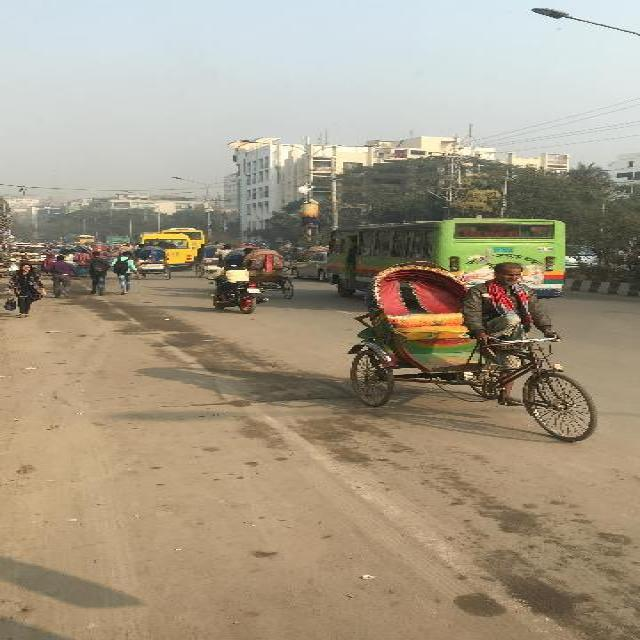bike: (210, 261, 268, 314)
vehicle: (347, 261, 601, 445), (327, 220, 571, 299), (242, 250, 293, 301), (141, 235, 195, 270), (133, 246, 171, 280), (290, 253, 327, 282), (161, 228, 204, 250), (565, 243, 597, 272), (200, 245, 223, 277), (223, 248, 245, 261), (282, 249, 303, 261), (101, 235, 129, 243), (59, 245, 78, 253), (107, 244, 119, 256), (304, 247, 327, 253), (120, 245, 134, 254), (92, 245, 106, 253), (79, 236, 95, 243), (77, 247, 93, 254), (279, 243, 293, 249), (242, 244, 254, 249), (41, 245, 53, 250)
